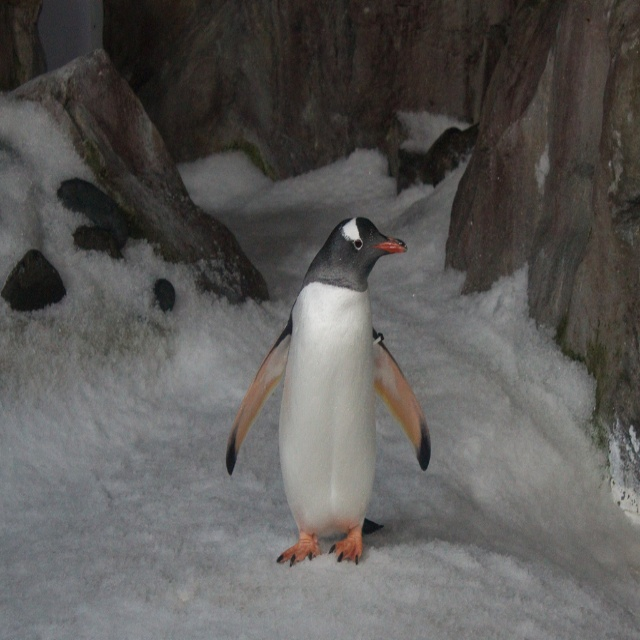Penguin: (225, 213, 433, 571)
